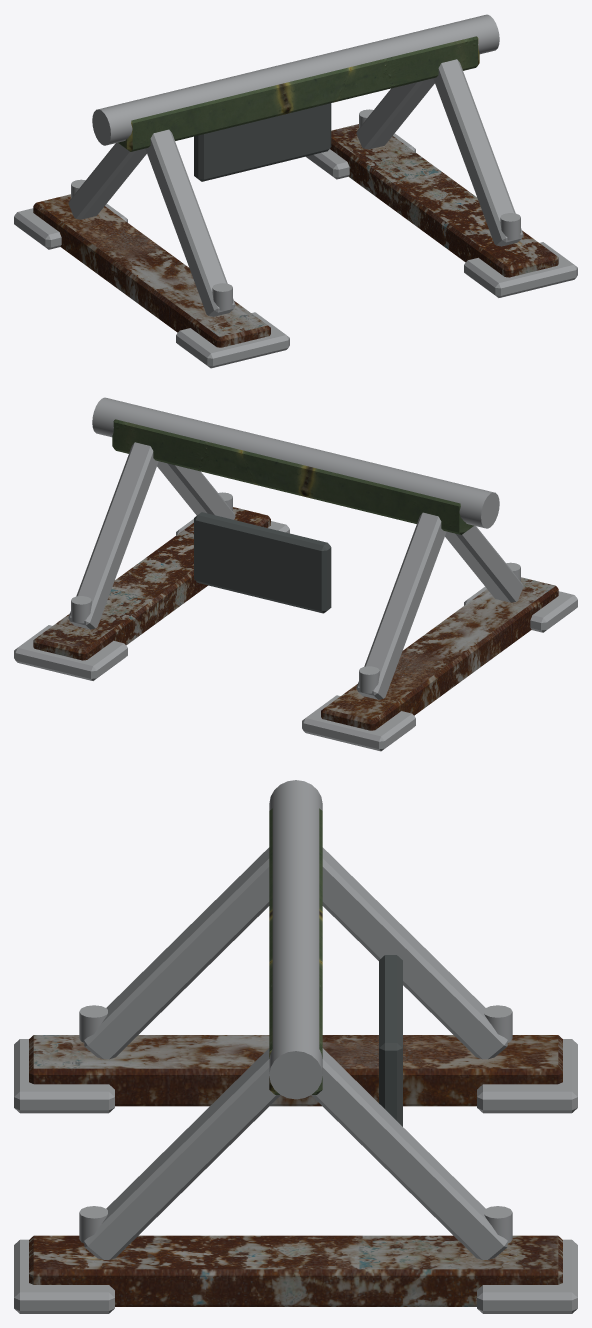
File: SteelTargetStand.glb
3 renders of one model, top to bottom at view 1: azimuth 30°, elevation 25°; view 2: azimuth 150°, elevation 25°; view 3: azimuth 270°, elevation 25°, orthographic. The views are drawn at different scales.
Visible parts, largest first — view 1: Steel channel foot.002, Steel channel foot.003, Hinge crossbeam.001, Steel hinge shaft.001, Target number backing.001, Triangulated leg.004, Triangulated leg.006, Triangulated leg.005, Triangulated leg.007, Anchored end shoe.006, Anchored end shoe.004, Anchored end shoe.005 (+3 smaller); view 2: Steel channel foot.002, Hinge crossbeam.001, Target number backing.001, Steel hinge shaft.001, Steel channel foot.003, Triangulated leg.005, Triangulated leg.007, Triangulated leg.004, Anchored end shoe.007, Anchored end shoe.005, Triangulated leg.006, Anchored end shoe.004 (+2 smaller); view 3: Steel channel foot.003, Steel channel foot.002, Steel hinge shaft.001, Triangulated leg.006, Triangulated leg.007, Triangulated leg.004, Triangulated leg.005, Target number backing.001, Anchored end shoe.004, Anchored end shoe.005, Anchored end shoe.006, Anchored end shoe.007 (+5 smaller).
Boxes of the visible parts, left/top/right/bottom form: Steel channel foot.002: left=33, top=194, right=270, bottom=347; Steel channel foot.003: left=330, top=124, right=558, bottom=277; Hinge crossbeam.001: left=118, top=36, right=479, bottom=151; Steel hinge shaft.001: left=92, top=14, right=499, bottom=145; Target number backing.001: left=194, top=103, right=331, bottom=181; Triangulated leg.004: left=145, top=129, right=235, bottom=316; Triangulated leg.006: left=433, top=59, right=523, bottom=246; Triangulated leg.005: left=68, top=143, right=146, bottom=219; Triangulated leg.007: left=356, top=78, right=434, bottom=149; Anchored end shoe.006: left=464, top=242, right=577, bottom=297; Anchored end shoe.004: left=176, top=312, right=289, bottom=368; Anchored end shoe.005: left=14, top=204, right=127, bottom=249; Steel channel foot.002: left=321, top=577, right=558, bottom=730; Hinge crossbeam.001: left=112, top=419, right=473, bottom=534; Target number backing.001: left=194, top=512, right=331, bottom=613; Steel hinge shaft.001: left=92, top=397, right=499, bottom=528; Steel channel foot.003: left=33, top=507, right=270, bottom=660; Triangulated leg.005: left=356, top=512, right=446, bottom=699; Triangulated leg.007: left=68, top=442, right=158, bottom=629; Triangulated leg.004: left=445, top=526, right=523, bottom=602; Anchored end shoe.007: left=14, top=625, right=127, bottom=680; Anchored end shoe.005: left=302, top=695, right=415, bottom=751; Triangulated leg.006: left=157, top=461, right=235, bottom=519; Anchored end shoe.004: left=464, top=587, right=577, bottom=632; Steel channel foot.003: left=29, top=1235, right=562, bottom=1306; Steel channel foot.002: left=29, top=1035, right=562, bottom=1106; Steel hinge shaft.001: left=269, top=780, right=322, bottom=1099; Triangulated leg.006: left=84, top=1048, right=280, bottom=1259; Triangulated leg.007: left=311, top=1048, right=507, bottom=1259; Triangulated leg.004: left=84, top=847, right=269, bottom=1059; Triangulated leg.005: left=322, top=847, right=507, bottom=1059; Target number backing.001: left=379, top=955, right=402, bottom=1126; Anchored end shoe.004: left=14, top=1039, right=114, bottom=1113; Anchored end shoe.005: left=477, top=1039, right=577, bottom=1113; Anchored end shoe.006: left=14, top=1239, right=114, bottom=1313; Anchored end shoe.007: left=477, top=1239, right=577, bottom=1313.
Bounding box in the file's own units: 1.08 × 0.51 × 0.95.
4 materials, 2 textured.
